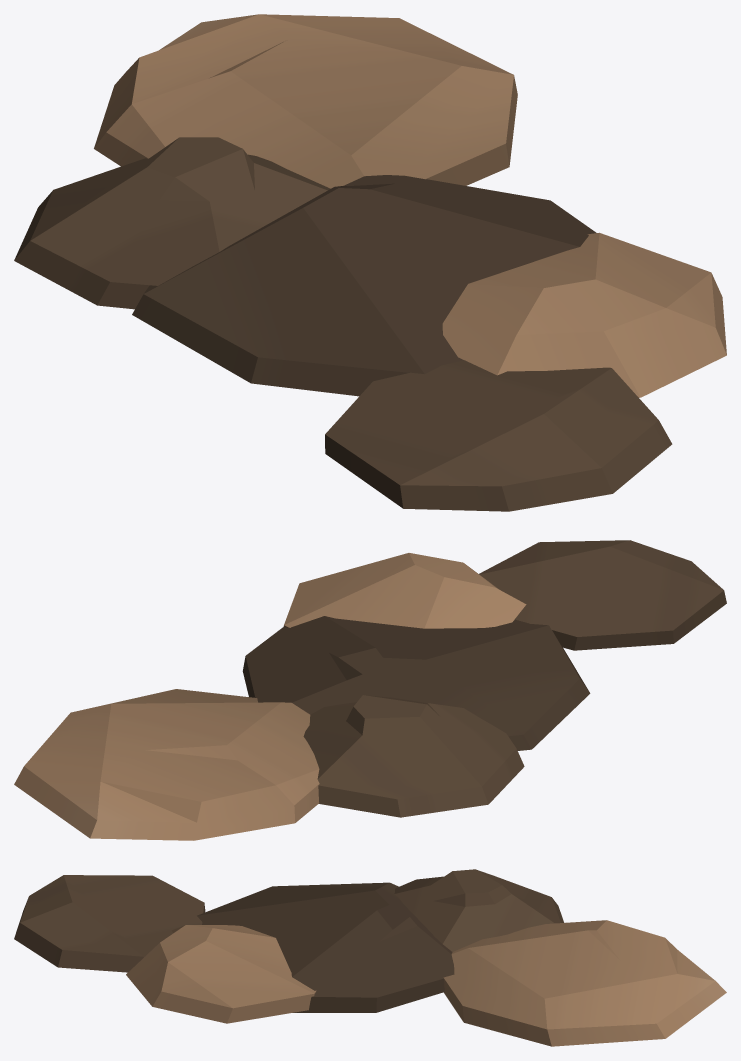
File: ea_swamp_grass_hill_dead_01c_pre_8_lev1.glb
The picture shows the model from 3 angles, top to bottom: view 1: azimuth 30°, elevation 25°; view 2: azimuth 150°, elevation 25°; view 3: azimuth 270°, elevation 25°; orthographic projection. The views are drawn at different scales.
Visible parts, largest first — view 1: ea_swamp_grass_hill_dead_01c_pre_8_lev1; view 2: ea_swamp_grass_hill_dead_01c_pre_8_lev1; view 3: ea_swamp_grass_hill_dead_01c_pre_8_lev1.
Boxes of the visible parts, <box> form: ea_swamp_grass_hill_dead_01c_pre_8_lev1: <box>14,14,726,511</box>; ea_swamp_grass_hill_dead_01c_pre_8_lev1: <box>14,540,726,840</box>; ea_swamp_grass_hill_dead_01c_pre_8_lev1: <box>14,869,726,1046</box>.
Bounding box in the file's own units: 1.54 × 0.2231 × 2.85.
1 material, 1 textured.
